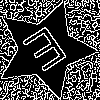E: (20, 24, 75, 81)
